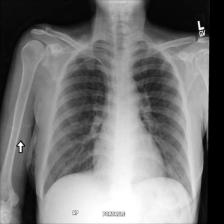normal: (39, 36, 199, 201)
